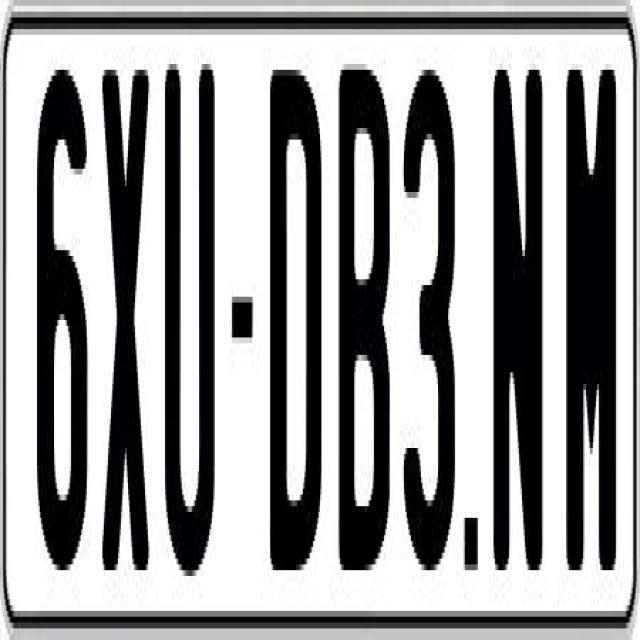3: (400, 63, 460, 600)
6: (37, 63, 95, 564)
B: (336, 52, 394, 564)
D: (270, 64, 327, 576)
M: (562, 58, 610, 570)
N: (492, 64, 542, 594)
U: (163, 46, 220, 594)
X: (98, 70, 152, 570)
